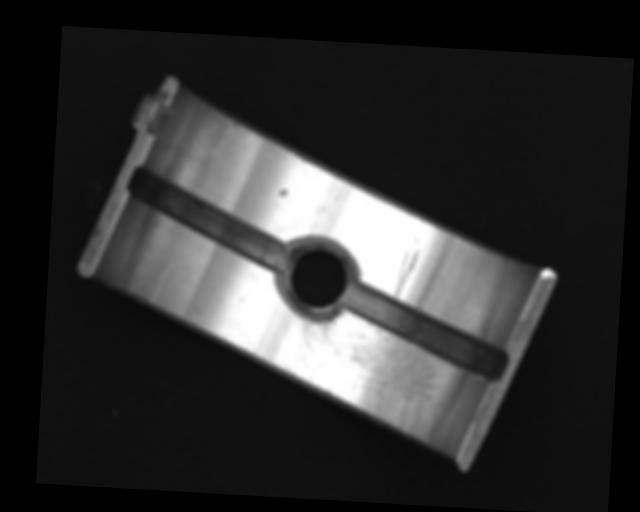bruise: (277, 188, 289, 199)
gap: (124, 167, 298, 273), (341, 282, 513, 382)
hole: (275, 238, 362, 321)
nick: (394, 248, 419, 300)
scratch: (286, 311, 442, 444)
